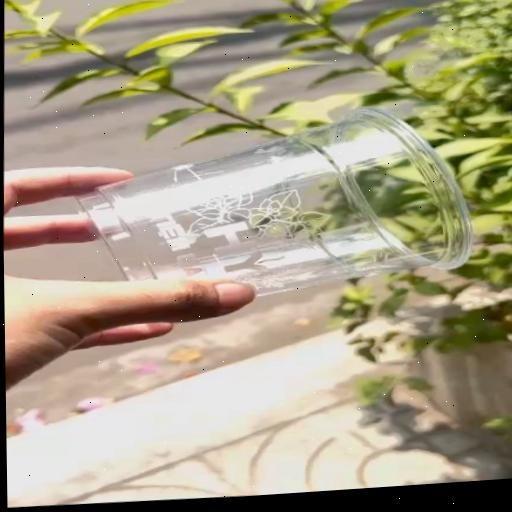ly_giay: (79, 108, 472, 293)
